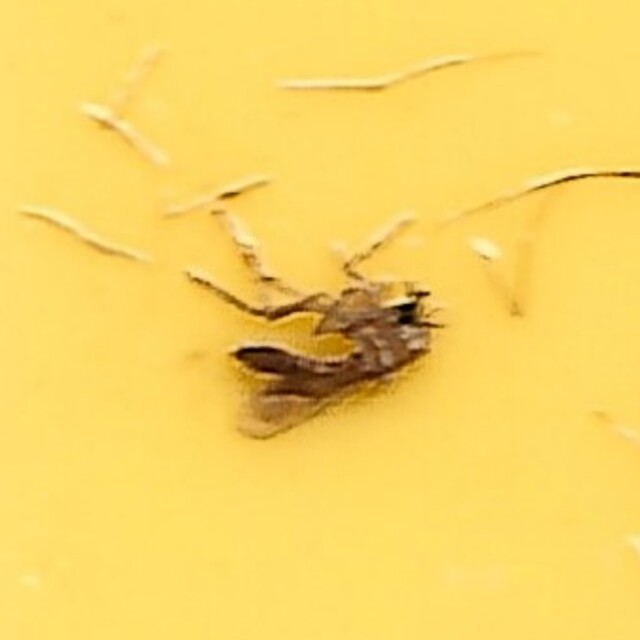Nematocera: (190, 203, 450, 437)
